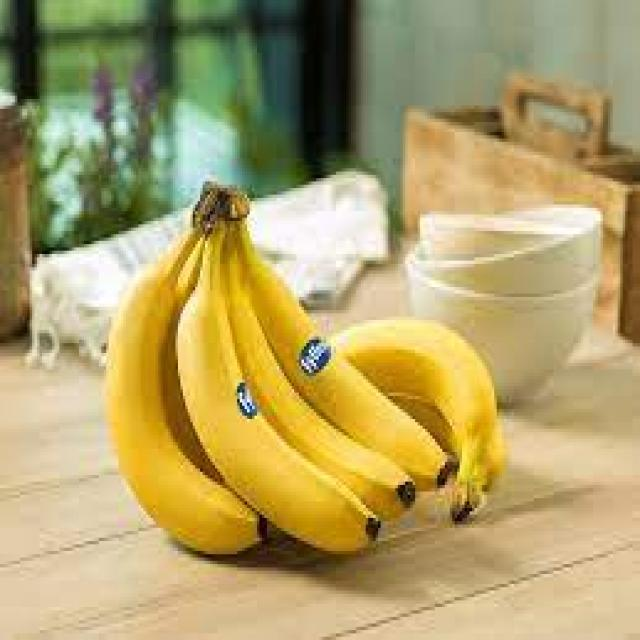banana: (104, 178, 457, 558), (322, 319, 510, 509)
